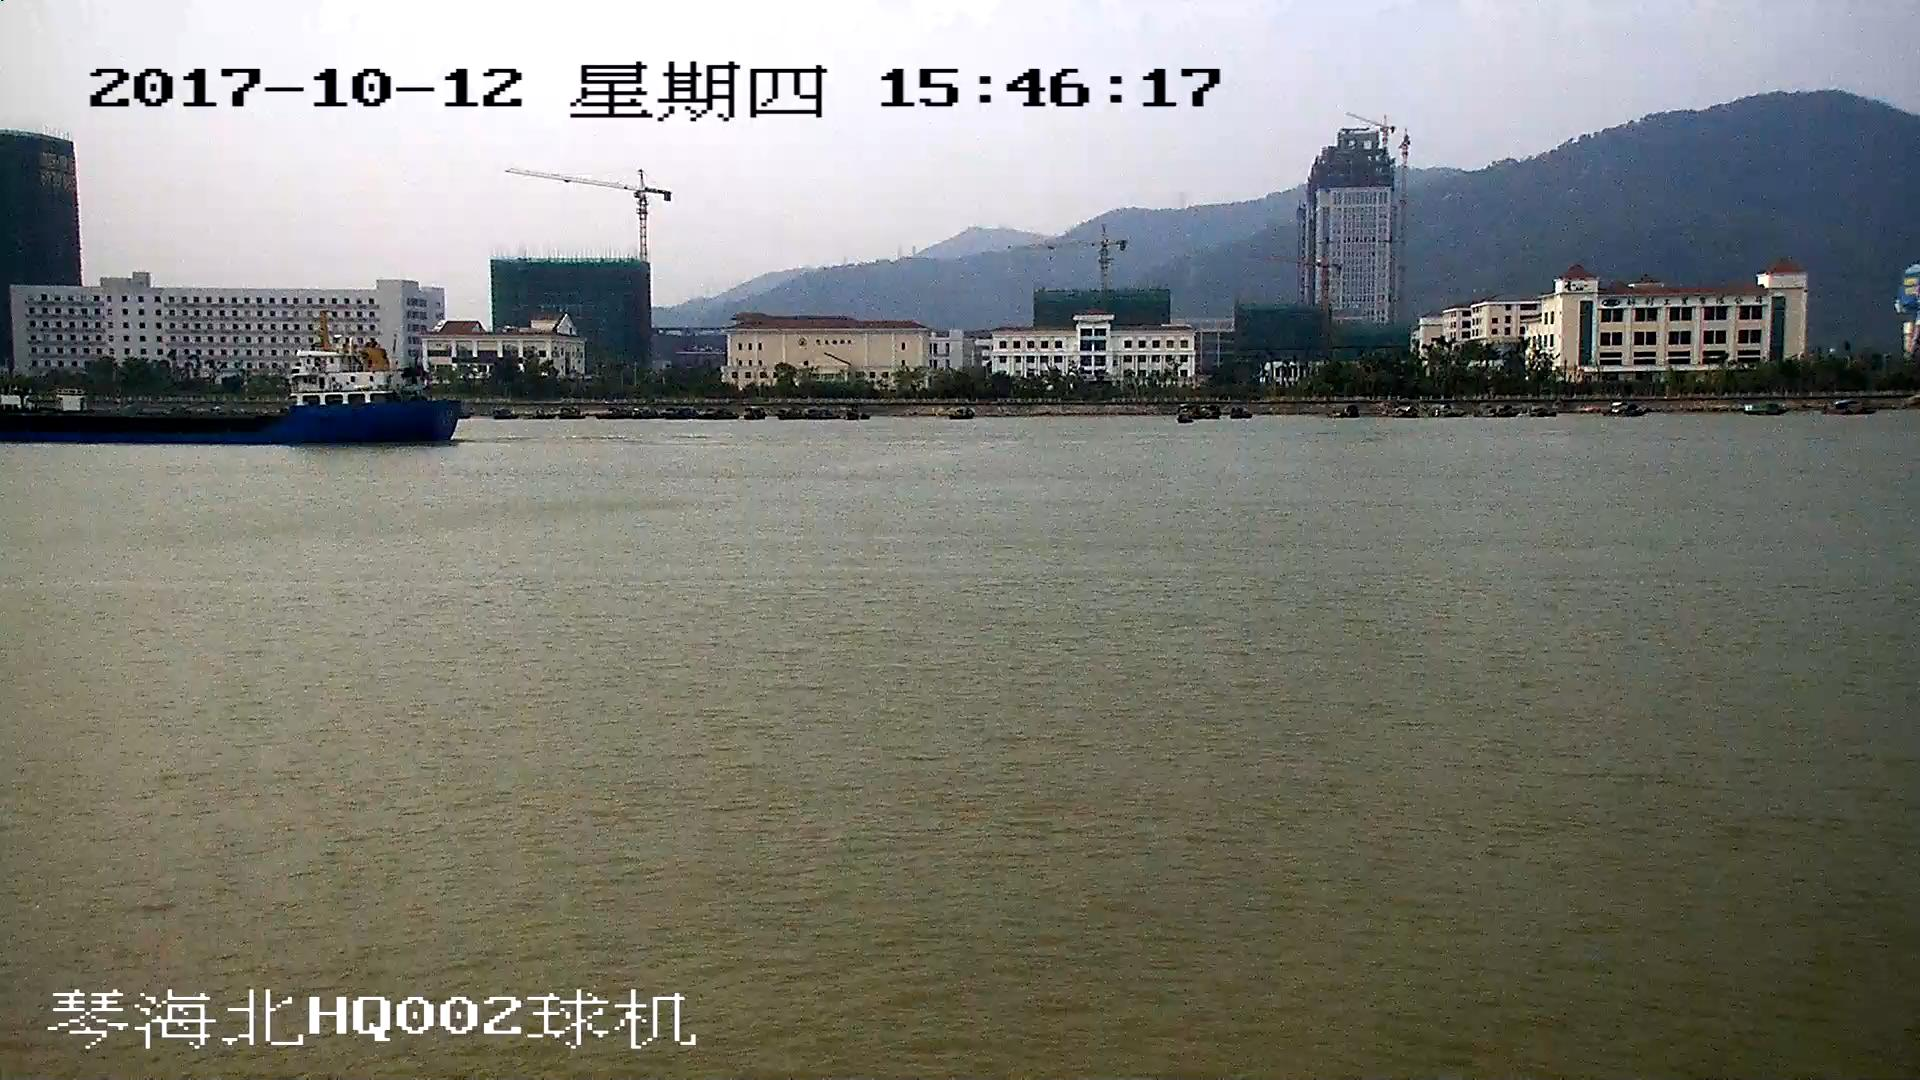general cargo ship: (1, 346, 466, 444)
